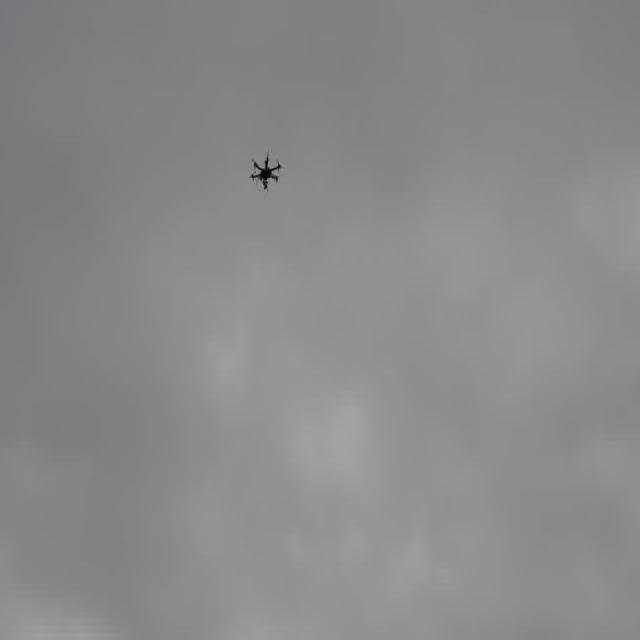drone: (249, 154, 281, 195)
